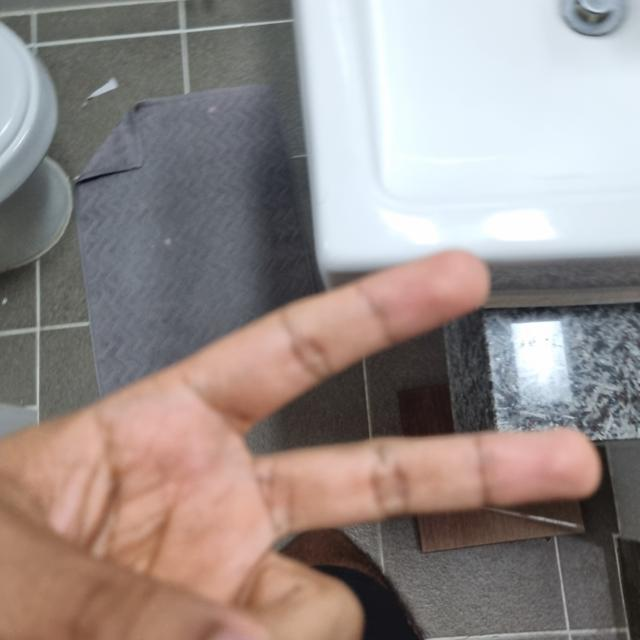Scissors: (0, 259, 600, 639)
